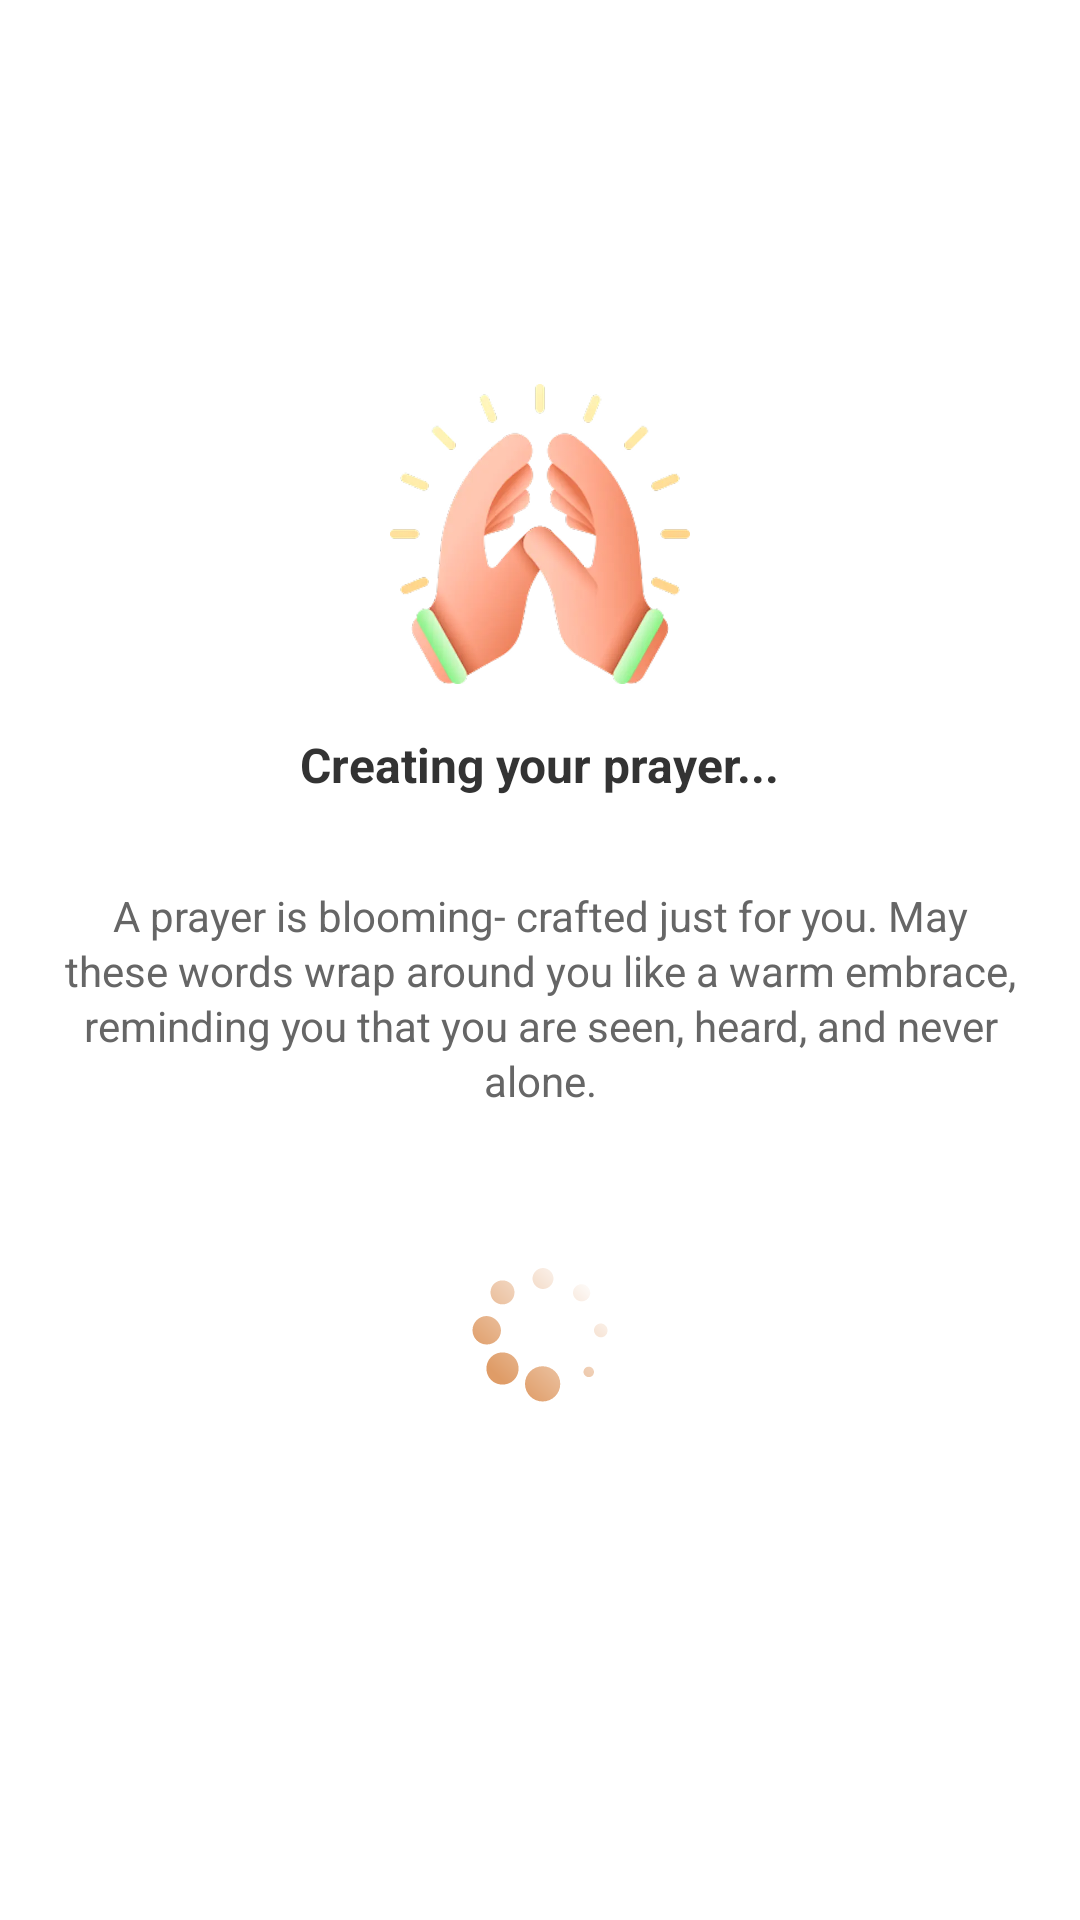

Icons on this 1080x1920 Android screen, each with its box as (left=x1, top=y1, right=x2, bottom=y2):
player create loading: (left=472, top=1268, right=607, bottom=1402)
